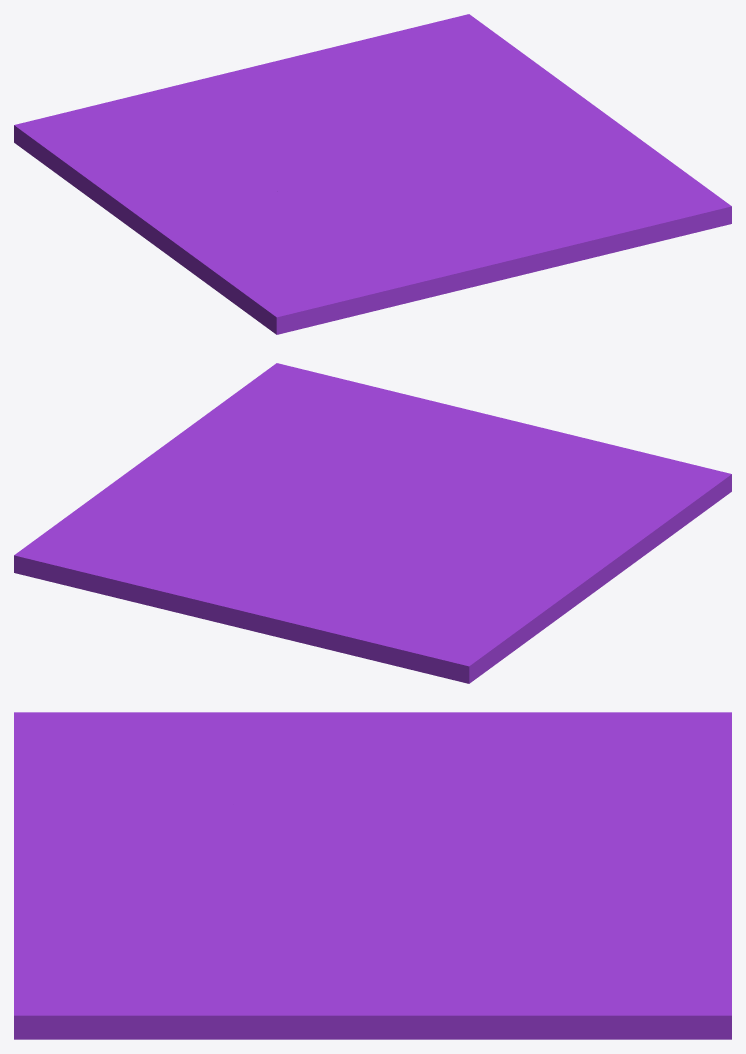
File: Platform_40_chunks.fbx
3 renders of one model, top to bottom at view 1: azimuth 30°, elevation 25°; view 2: azimuth 150°, elevation 25°; view 3: azimuth 270°, elevation 25°, orthographic. The views are drawn at different scales.
Visible parts, largest first — view 1: Platform_40_1, Platform_40_2, Platform_40_6, Platform_40_4, Platform_40_0, Platform_40_9, Platform_40_5, Platform_40_8, Platform_40_7; view 2: Platform_40_1, Platform_40_0, Platform_40_2, Platform_40_6, Platform_40_4, Platform_40_9, Platform_40_5, Platform_40_8, Platform_40_7; view 3: Platform_40_1, Platform_40_6, Platform_40_0, Platform_40_2, Platform_40_9, Platform_40_4, Platform_40_5, Platform_40_8, Platform_40_7.
Boxes of the visible parts, <box> form: Platform_40_1: <box>14,59,375,234</box>; Platform_40_2: <box>170,223,458,334</box>; Platform_40_6: <box>407,34,632,159</box>; Platform_40_4: <box>348,174,590,290</box>; Platform_40_0: <box>283,14,495,148</box>; Platform_40_9: <box>512,134,731,234</box>; Platform_40_5: <box>140,168,388,256</box>; Platform_40_8: <box>373,119,512,207</box>; Platform_40_7: <box>484,174,688,258</box>; Platform_40_1: <box>200,513,601,683</box>; Platform_40_0: <box>14,521,337,625</box>; Platform_40_2: <box>505,431,731,569</box>; Platform_40_6: <box>41,435,290,535</box>; Platform_40_4: <box>382,399,554,504</box>; Platform_40_9: <box>178,363,363,466</box>; Platform_40_5: <box>378,495,626,590</box>; Platform_40_8: <box>262,453,403,525</box>; Platform_40_7: <box>321,384,425,458</box>; Platform_40_1: <box>365,712,731,891</box>; Platform_40_6: <box>261,912,657,1039</box>; Platform_40_0: <box>417,876,731,1039</box>; Platform_40_2: <box>14,712,299,829</box>; Platform_40_9: <box>14,928,294,1039</box>; Platform_40_4: <box>14,811,337,915</box>; Platform_40_5: <box>228,712,370,866</box>; Platform_40_8: <box>180,862,478,937</box>; Platform_40_7: <box>14,890,252,957</box>.
Size of the model in its own units: 810 by 29.87 by 810.
